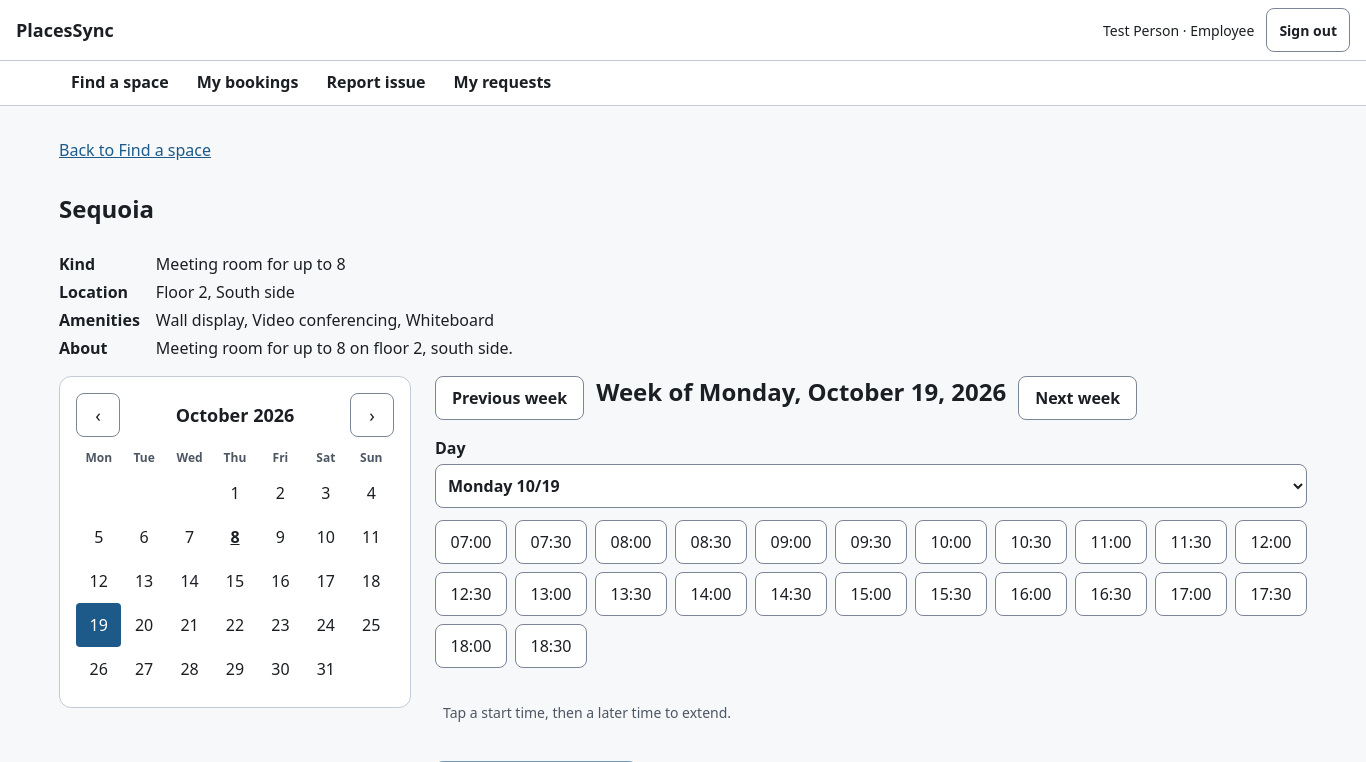
it: resource week calendar (SPEC 14.1) › compact chips carry the same words
Select "Friday 10/23" in the dropdown labelled "Day". click: (871, 486)
box: x1=435 y1=464 x2=1307 y2=508
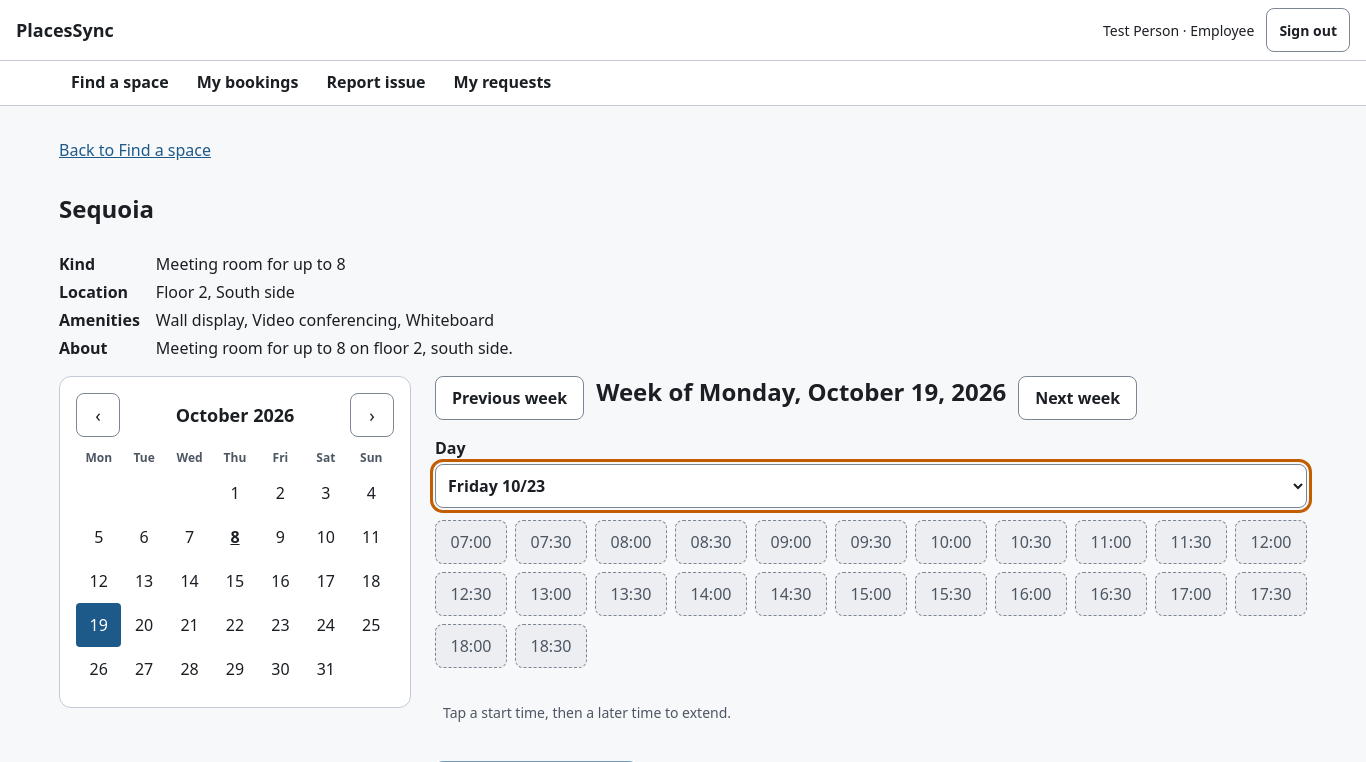
Expected: the button named "13:00 to 13:30, not open for booking yet" is disabled, x1=515 y1=572 x2=587 y2=616
Select "Saturday 10/24" in the dropdown labelled "Day". click: (871, 486)
box: x1=435 y1=464 x2=1307 y2=508
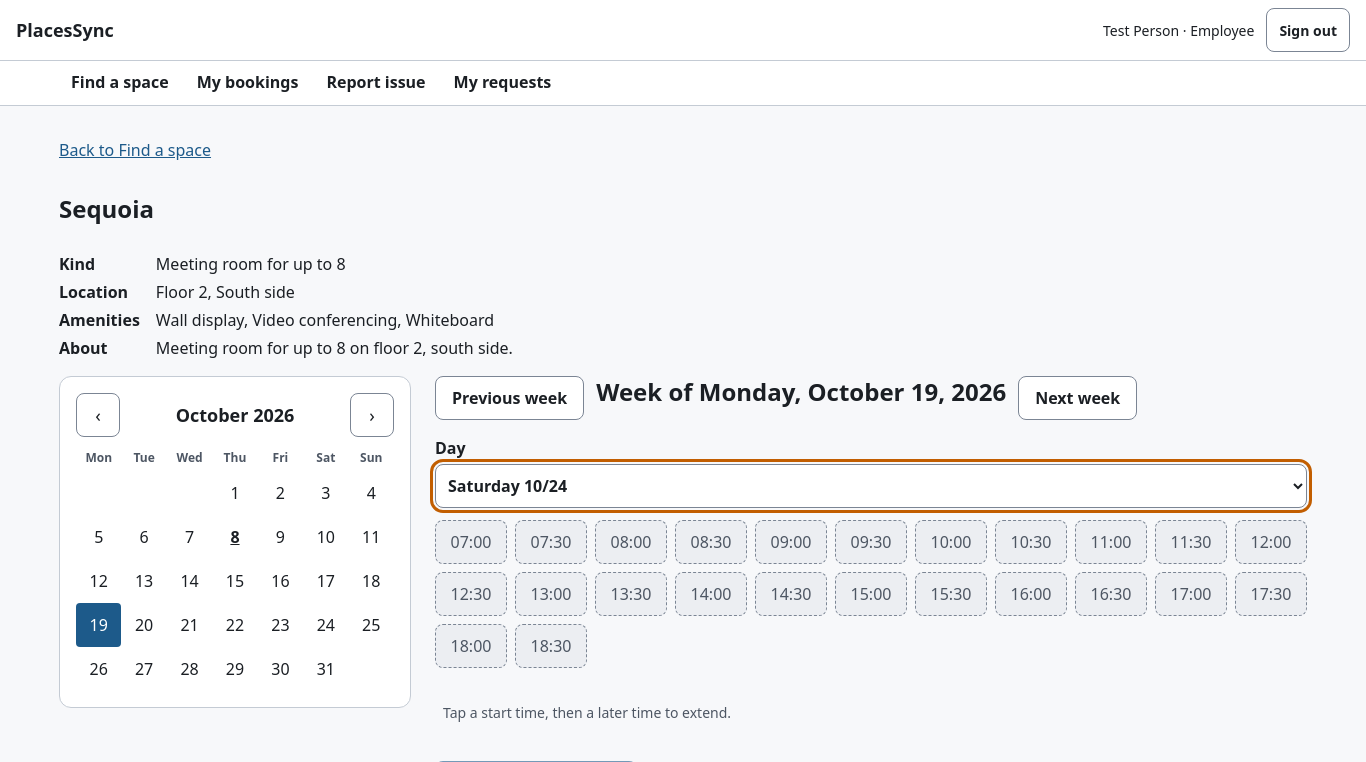
Expected: the button named "13:00 to 13:30, closed" is shown, x1=515 y1=572 x2=587 y2=616
Select "Thursday 10/22" in the dropdown labelled "Day". click: (871, 486)
box: x1=435 y1=464 x2=1307 y2=508
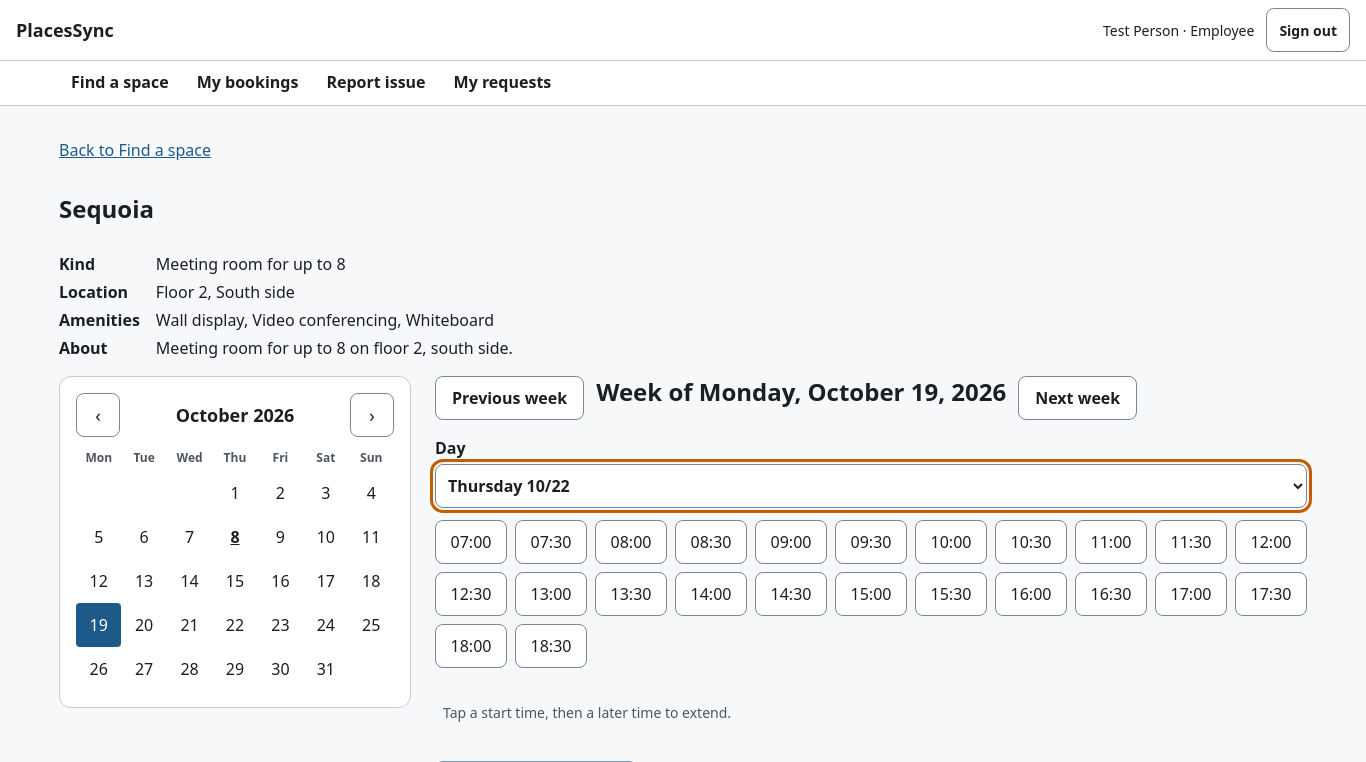
Expected: the button named "13:00 to 13:30" is enabled, x1=515 y1=572 x2=587 y2=616
